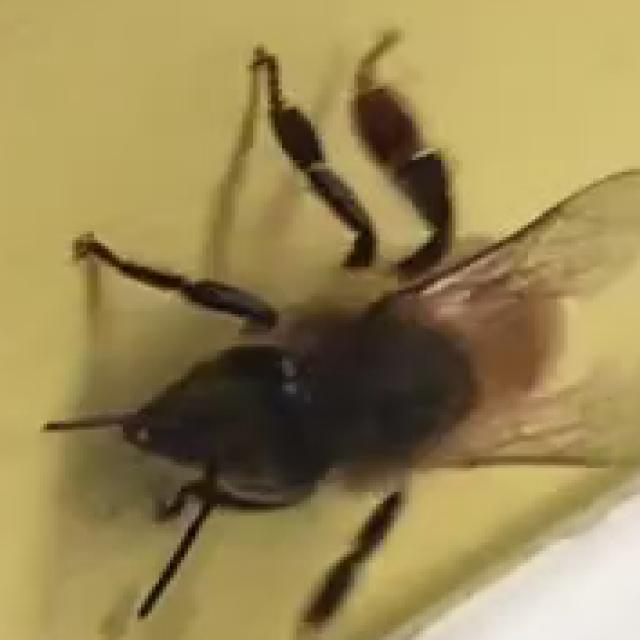honeybee: (29, 17, 640, 622)
